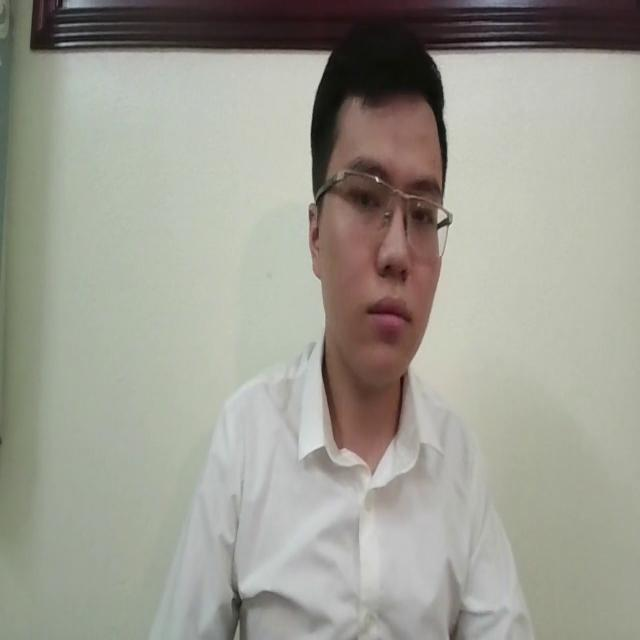student: (131, 28, 539, 640)
